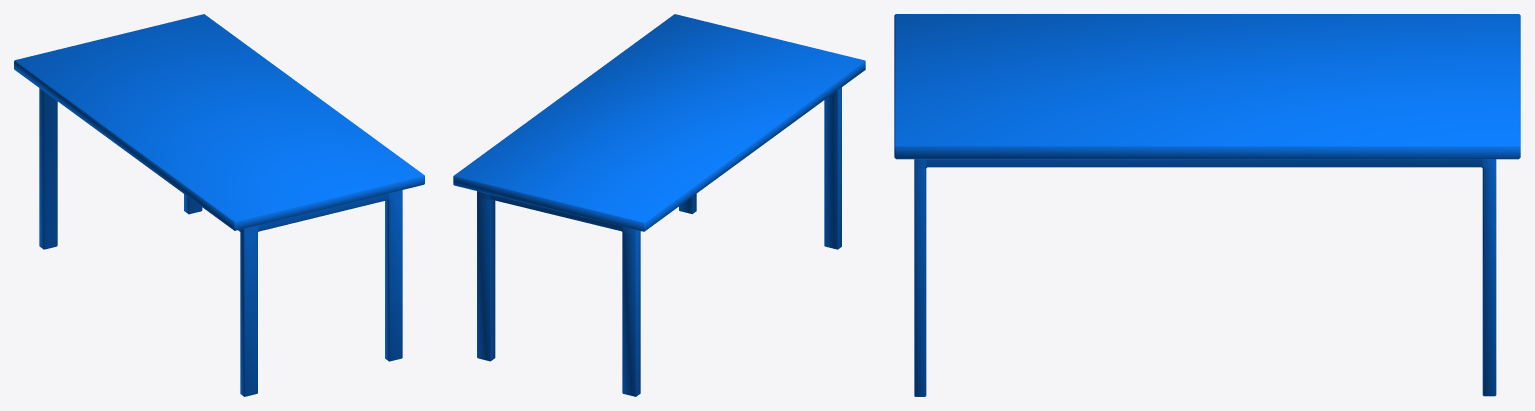
The model's file is Table_low.FBX.
3 renders of one model, left to right at view 1: azimuth 30°, elevation 25°; view 2: azimuth 150°, elevation 25°; view 3: azimuth 270°, elevation 25°, orthographic. The views are drawn at different scales.
Parts seen in each view (by area): view 1: Table_low; view 2: Table_low; view 3: Table_low.
Boxes of the visible parts, x1,y1,x2,y2 form: Table_low: (14,14,424,396); Table_low: (453,14,865,396); Table_low: (894,14,1520,396).
Size of the model in its own units: 0.8 by 0.74 by 1.6.
